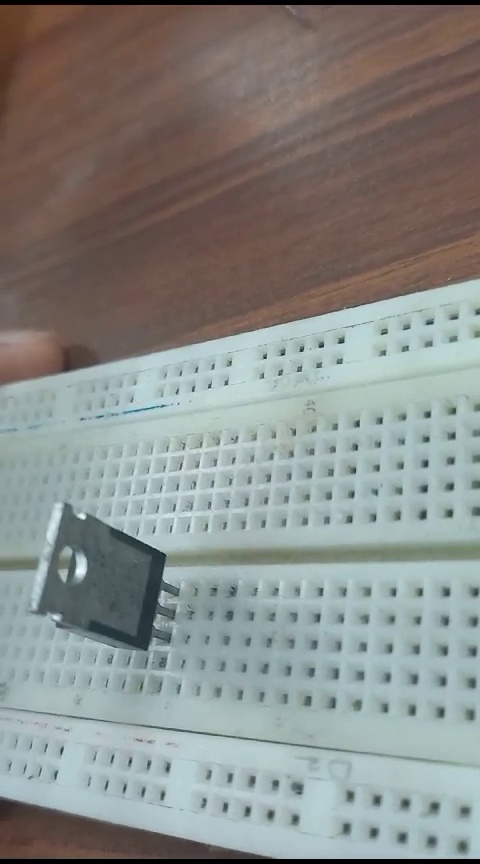voltage regulator: (28, 493, 180, 661)
